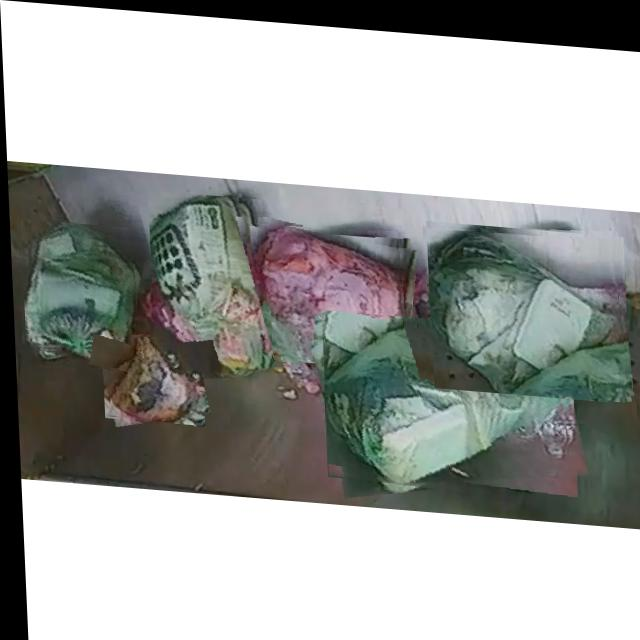general_trashbag: (322, 313, 561, 480), (427, 221, 620, 384), (149, 191, 269, 369), (22, 222, 133, 352)
other_trashbag: (255, 220, 404, 370), (106, 334, 201, 418)
